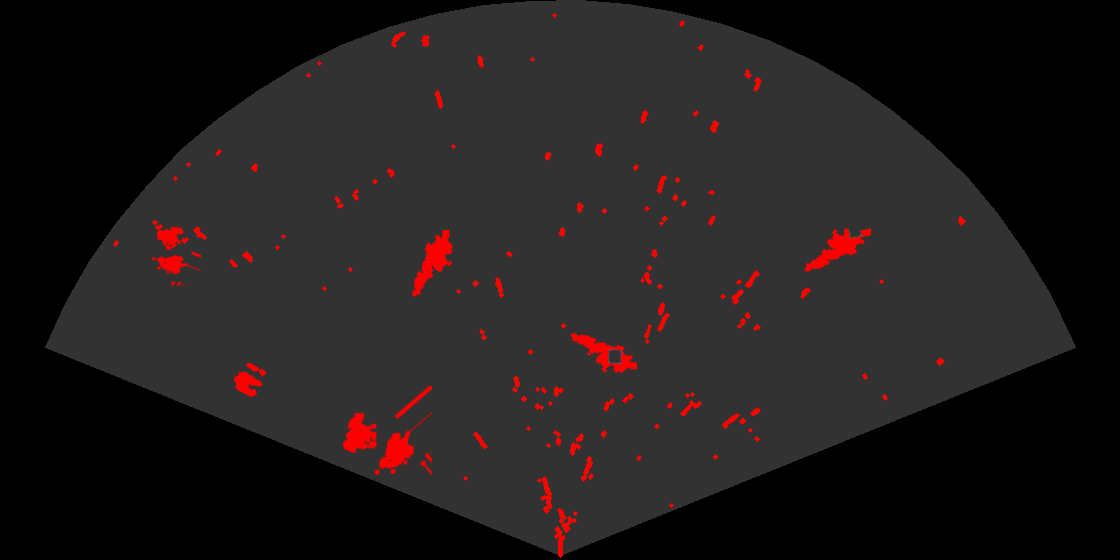ball: (232, 361, 268, 398)
cage: (341, 386, 432, 477), (150, 225, 201, 286)
frogman: (803, 226, 871, 273), (411, 230, 455, 299), (569, 332, 637, 375)
